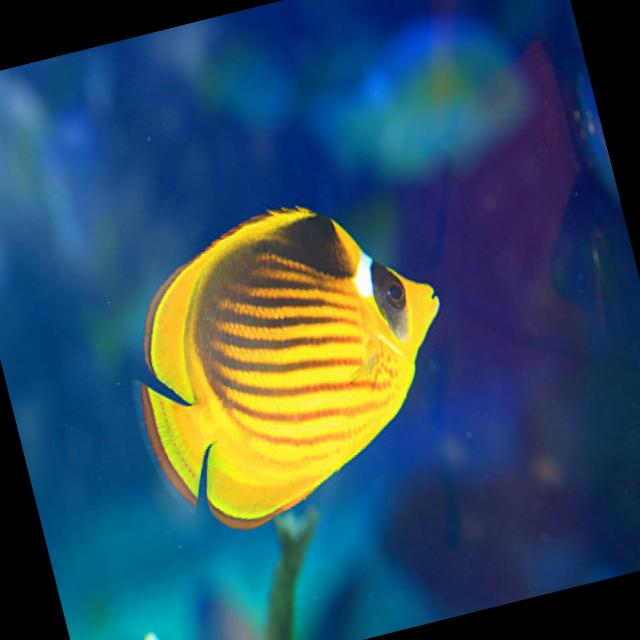ButterflyFish: (99, 170, 484, 545)
